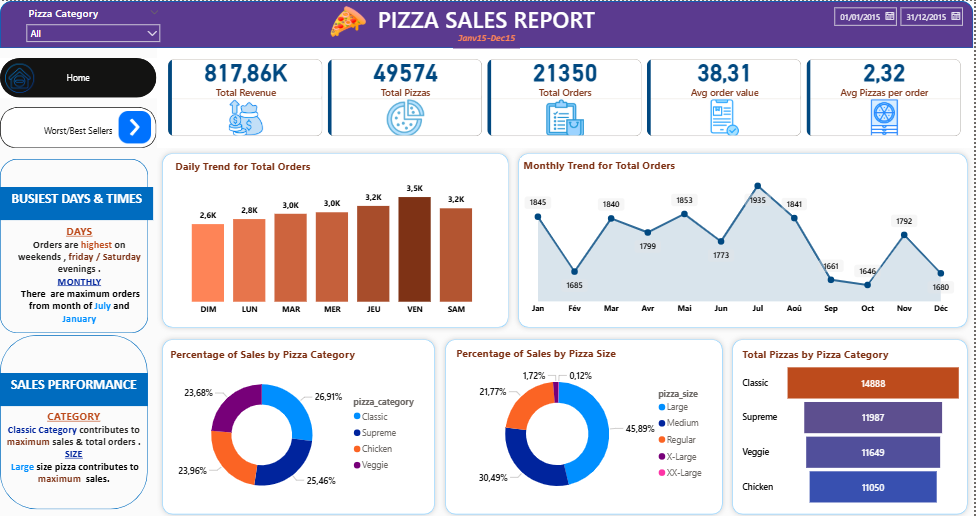

The dashboard page shown, as its layout file describes it:
{"tool":"powerbi","page":{"name":"Home","canvas":[1500,820],"ordinal":0},"visuals":[{"type":"cardVisual","fields":{"Data":["pizza_sales_excel_file.Total Revenue","pizza_sales_excel_file.Total Pizzas","pizza_sales_excel_file.Total Orders","pizza_sales_excel_file.Avg order value","pizza_sales_excel_file.Avg Pizzas per order"]},"box":[241.2,72.5,1258.8,153.8],"z":0},{"type":"shape","box":[0,0,1500,72.5],"z":1000},{"type":"shape","box":[241.2,226.2,550,285],"z":2000},{"type":"textbox","box":[698.6,42.9,102.9,30],"z":3000},{"type":"image","box":[494.3,4.3,84.3,54.3],"z":4000},{"type":"columnChart","title":"Daily Trend for Total Orders","fields":{"Category":["pizza_sales_excel_file.order Day"],"Y":["pizza_sales_excel_file.Total Orders"]},"box":[265.7,242.9,494.3,250],"z":5000},{"type":"shape","box":[791.2,226.2,708.8,285],"z":6000},{"type":"areaChart","title":"Monthly Trend for Total Orders","fields":{"Category":["pizza_sales_excel_file.Order Month"],"Y":["pizza_sales_excel_file.Total Orders"]},"box":[801.2,242.5,676.2,250],"z":7000},{"type":"shape","box":[241.2,512.5,436.2,286.2],"z":8000},{"type":"shape","box":[1121.2,512.5,378.8,286.2],"z":9000},{"type":"shape","box":[677.5,512.5,443.8,286.2],"z":10000},{"type":"donutChart","title":"Percentage of Sales by Pizza Category","fields":{"Category":["pizza_sales_excel_file.pizza_category"],"Y":["pizza_sales_excel_file.Total Revenue"]},"box":[257.5,533.8,401.2,250],"z":11000},{"type":"donutChart","title":"Percentage of Sales by Pizza Size","fields":{"Y":["pizza_sales_excel_file.Total Revenue"],"Category":["pizza_sales_excel_file.pizza_size"]},"box":[698.8,531.2,401.2,250],"z":12000},{"type":"funnel","title":"Total Pizzas by Pizza Category","fields":{"Category":["pizza_sales_excel_file.pizza_category"],"Y":["pizza_sales_excel_file.Total Pizzas"]},"box":[1138.8,533.8,348.8,250],"z":13000},{"type":"shape","box":[0,243.3,228.3,268.3],"z":14000},{"type":"textbox","box":[0,286.2,236.2,51.2],"z":15000},{"type":"textbox","box":[15,338.8,213.8,173.8],"z":16000},{"type":"shape","box":[0,515,227.5,268.8],"z":17000},{"type":"textbox","box":[0,573.8,227.5,51.2],"z":18000},{"type":"textbox","box":[0,625,227.5,173.8],"z":19000},{"type":"slicer","fields":{"Values":["pizza_sales_excel_file.pizza_category"]},"box":[31.2,3.8,226.2,66.2],"z":20000},{"type":"slicer","fields":{"Values":["pizza_sales_excel_file.order_date"]},"box":[1273.8,0,226.2,63.8],"z":21000},{"type":"pageNavigator","box":[0,88.3,241.7,61.7],"z":22000},{"type":"pageNavigator","box":[0,163.3,241.7,63.3],"z":23000},{"type":"image","box":[178.3,170,58.3,50],"z":23001},{"type":"image","box":[8.3,58.3,45,120],"z":23002}]}

Visuals, with their boxes on the page's 1500x820 design canvas (x1, y1, x2, y2). These are canvas units, not pixel positions in the 976x516 screenshot, which may show the page scaled, cropped or inside an application window:
cardVisual - pizza_sales_excel_file.Total Revenue x pizza_sales_excel_file.Total Pizzas: (left=241, top=72, right=1500, bottom=226)
shape: (left=0, top=0, right=1500, bottom=72)
shape: (left=241, top=226, right=791, bottom=511)
textbox: (left=699, top=43, right=802, bottom=73)
image: (left=494, top=4, right=579, bottom=59)
"Daily Trend for Total Orders" columnChart: (left=266, top=243, right=760, bottom=493)
shape: (left=791, top=226, right=1500, bottom=511)
"Monthly Trend for Total Orders" areaChart: (left=801, top=242, right=1477, bottom=492)
shape: (left=241, top=512, right=677, bottom=799)
shape: (left=1121, top=512, right=1500, bottom=799)
shape: (left=678, top=512, right=1121, bottom=799)
"Percentage of Sales by Pizza Category" donutChart: (left=258, top=534, right=659, bottom=784)
"Percentage of Sales by Pizza Size" donutChart: (left=699, top=531, right=1100, bottom=781)
"Total Pizzas by Pizza Category" funnel: (left=1139, top=534, right=1488, bottom=784)
shape: (left=0, top=243, right=228, bottom=512)
textbox: (left=0, top=286, right=236, bottom=337)
textbox: (left=15, top=339, right=229, bottom=513)
shape: (left=0, top=515, right=228, bottom=784)
textbox: (left=0, top=574, right=228, bottom=625)
textbox: (left=0, top=625, right=228, bottom=799)
slicer - pizza_sales_excel_file.pizza_category: (left=31, top=4, right=257, bottom=70)
slicer - pizza_sales_excel_file.order_date: (left=1274, top=0, right=1500, bottom=64)
pageNavigator: (left=0, top=88, right=242, bottom=150)
pageNavigator: (left=0, top=163, right=242, bottom=227)
image: (left=178, top=170, right=237, bottom=220)
image: (left=8, top=58, right=53, bottom=178)
